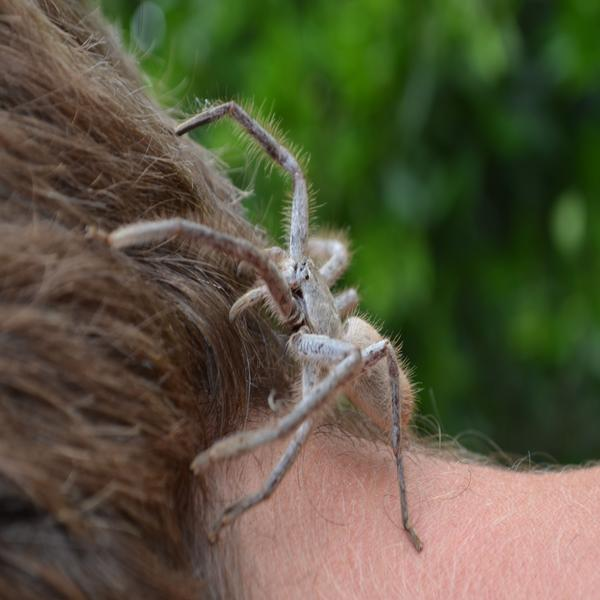Huntsman Spider: (114, 97, 420, 552)
